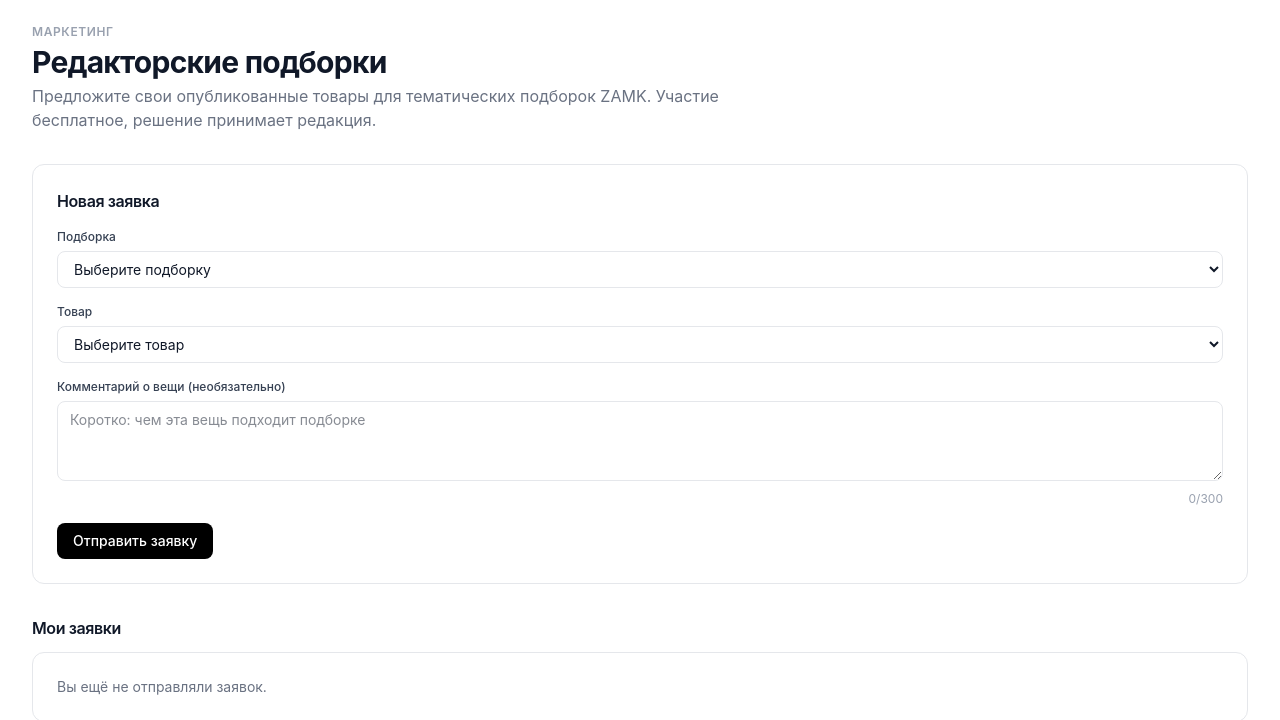
SellerCollections › submits a request with an optional comment and refreshes "my submissions"
The width and height of the screenshot is (1280, 720).
Select "Лето" in the dropdown labelled "Подборка" at (640, 270), box [57,251,1223,288]
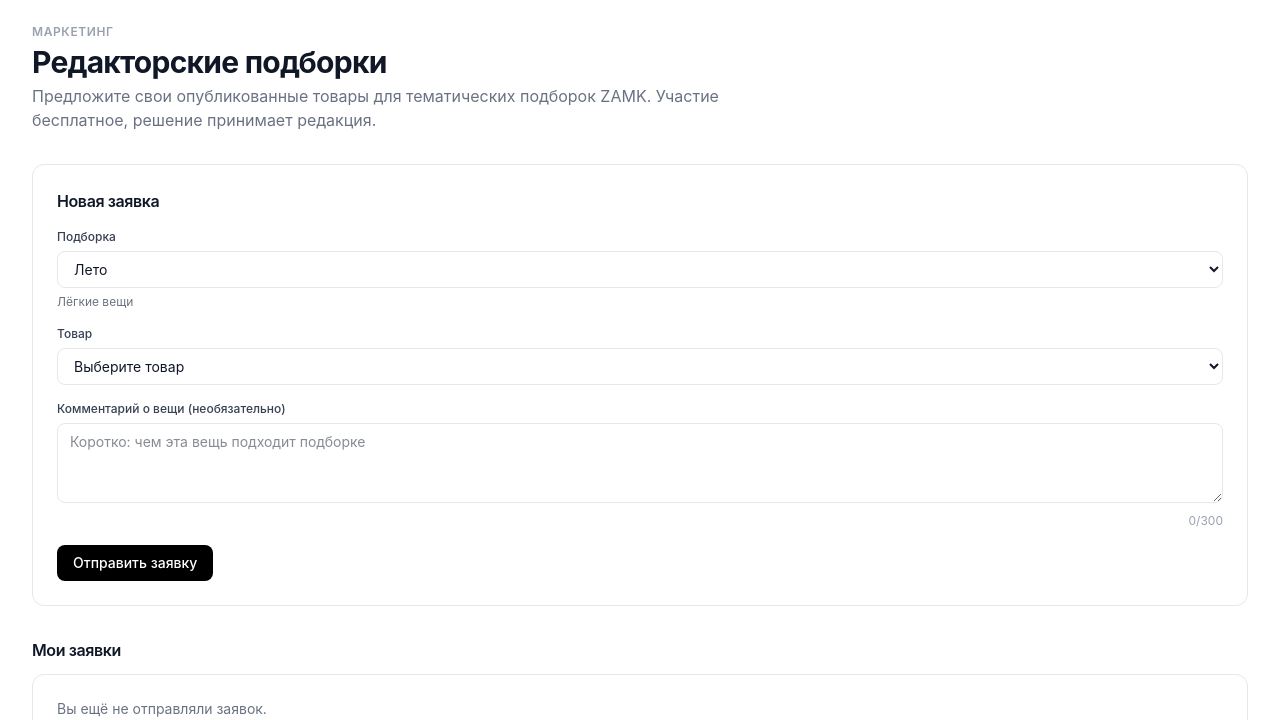
Select "Платье" in the dropdown labelled "Товар" at (640, 366), box [57,348,1223,385]
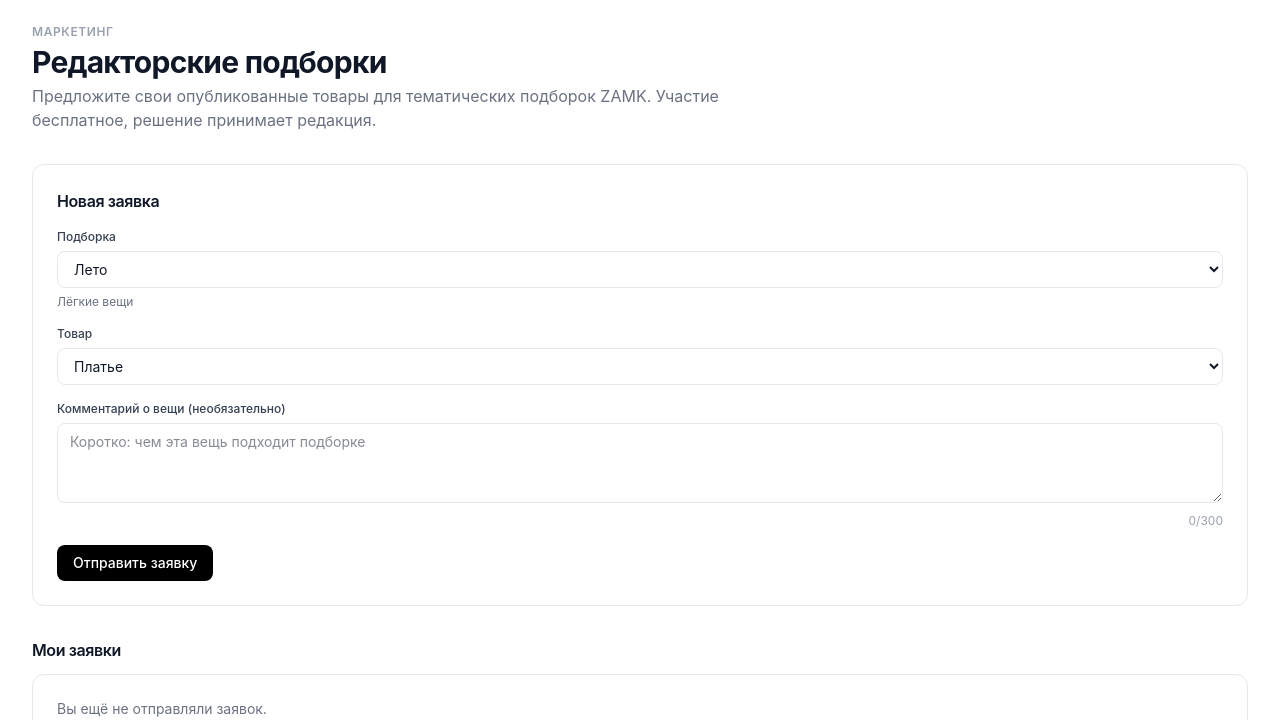
Type " Новая капсула " into the text box labelled "Комментарий о вещи (необязательно)" at (640, 463), box [57,423,1223,503]
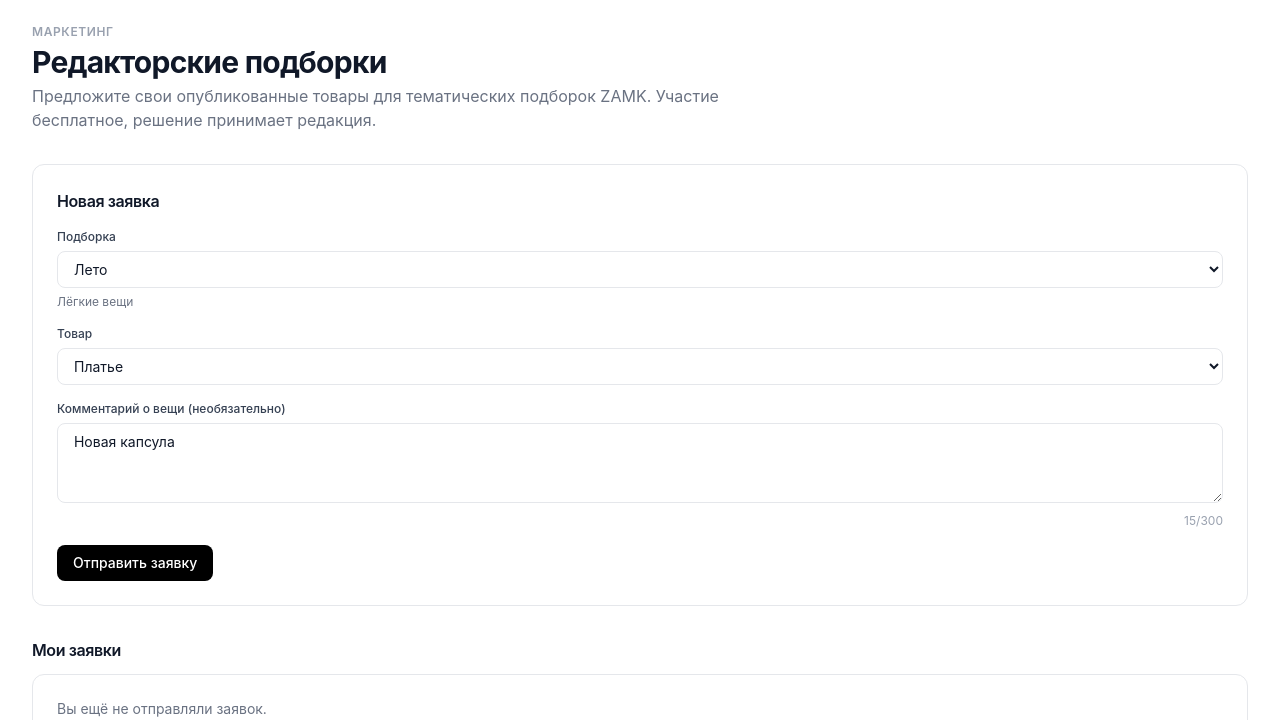
Click the button with test id "submission-submit" at (135, 563), box [57,545,213,581]
(page scrolled)
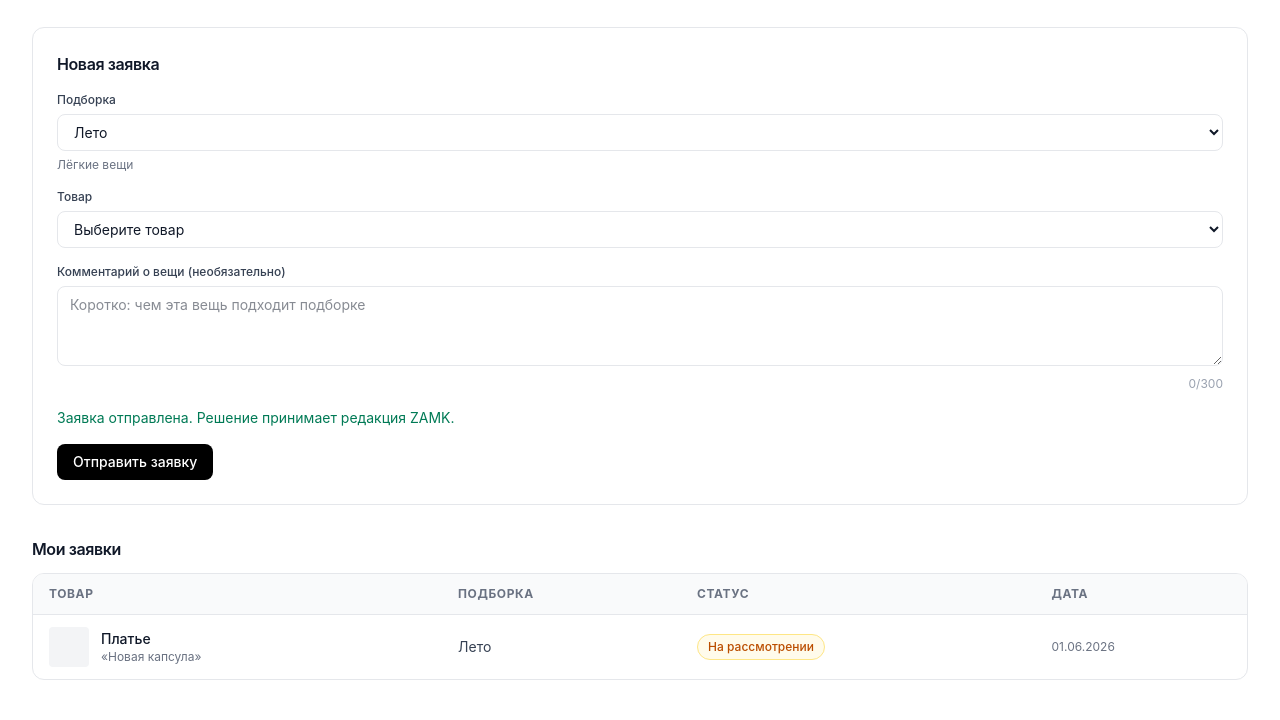
Result: the message shows "Заявка отправлена" at [57,409,454,426]
Result: the text with test id "submission-status-s1" reads "На рассмотрении" at [708,639,814,654]
